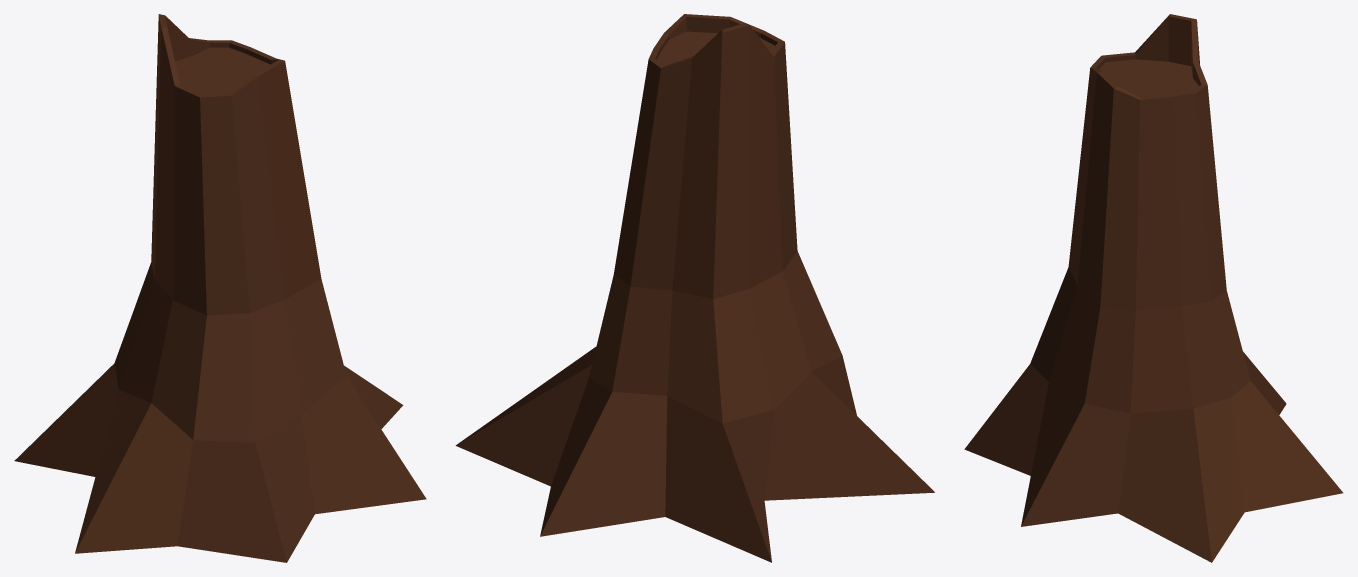
The model's file is tree04.fbx.
3 renders of one model, left to right at view 1: azimuth 30°, elevation 25°; view 2: azimuth 150°, elevation 25°; view 3: azimuth 270°, elevation 25°, orthographic. The views are drawn at different scales.
Visible parts, largest first — view 1: Stump_average_high; view 2: Stump_average_high; view 3: Stump_average_high.
Part boxes in pixels (<box>): Stump_average_high: <box>14,14,426,562</box>; Stump_average_high: <box>455,14,934,562</box>; Stump_average_high: <box>964,14,1343,562</box>.
Size of the model in its own units: 326 by 358 by 287.
